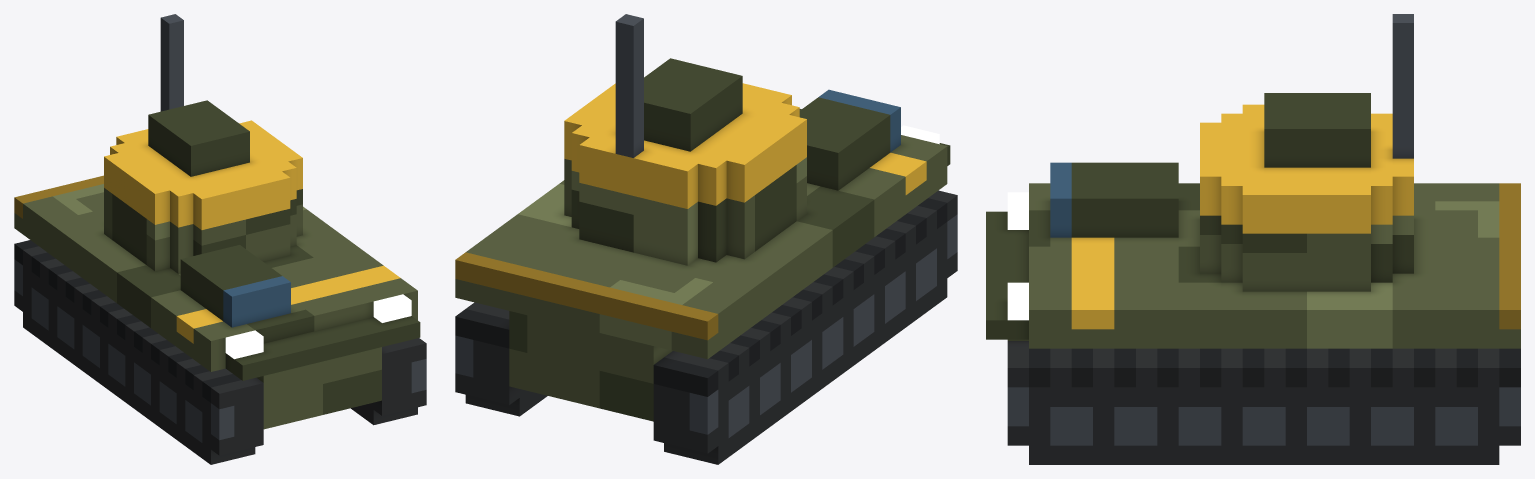
The picture shows the model from 3 angles, left to right: view 1: azimuth 30°, elevation 25°; view 2: azimuth 150°, elevation 25°; view 3: azimuth 270°, elevation 25°; orthographic projection. The views are drawn at different scales.
Visible parts, largest first — view 1: cm_aa_h_2_body; view 2: cm_aa_h_2_body; view 3: cm_aa_h_2_body.
Boxes of the visible parts, x1,y1,x2,y2 form: cm_aa_h_2_body: [14, 14, 426, 464]; cm_aa_h_2_body: [455, 14, 957, 464]; cm_aa_h_2_body: [986, 14, 1520, 464].
Size of the model in its own units: 0.875 by 1.25 by 1.56.
1 material, 1 textured.
